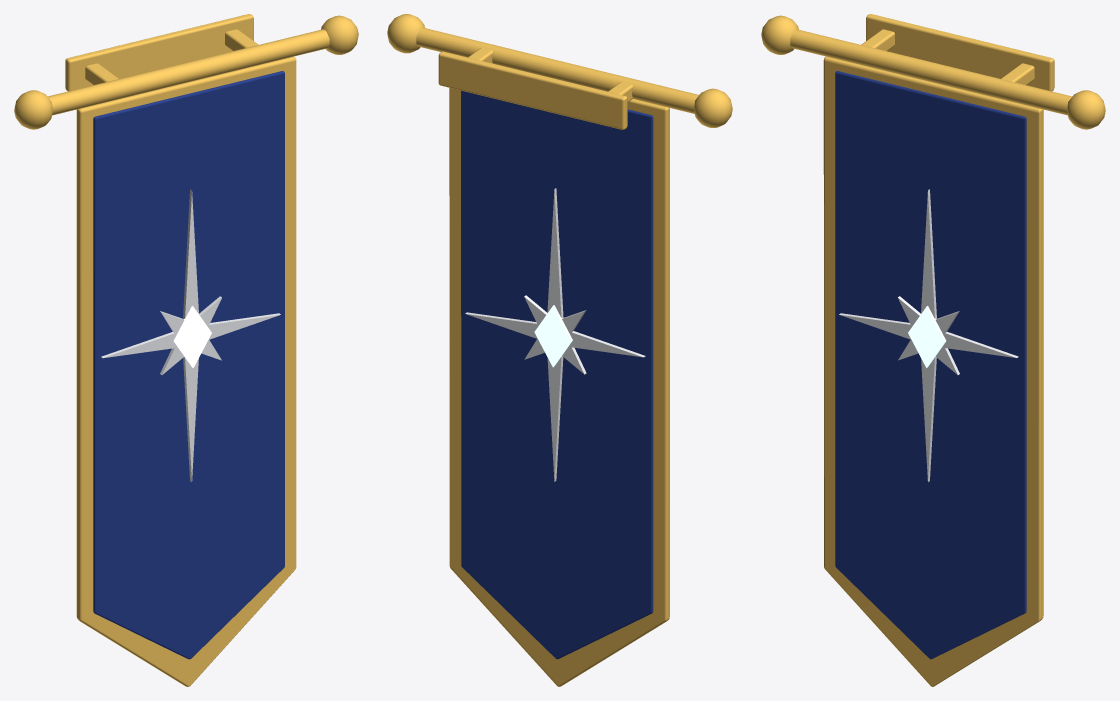
The model's file is Lobby_PROP_StarBanner.fbx.
The picture shows the model from 3 angles, left to right: view 1: azimuth 30°, elevation 25°; view 2: azimuth 150°, elevation 25°; view 3: azimuth 330°, elevation 25°; orthographic projection.
Parts seen in each view (by area): view 1: Lobby_PROP_StarBanner__NavyCloth, Lobby_PROP_StarBanner__Gold, Lobby_PROP_StarBanner__WhiteEmblem, Lobby_PROP_StarBanner__NeonCyanSoft; view 2: Lobby_PROP_StarBanner__NavyCloth, Lobby_PROP_StarBanner__Gold, Lobby_PROP_StarBanner__WhiteEmblem, Lobby_PROP_StarBanner__NeonCyanSoft; view 3: Lobby_PROP_StarBanner__NavyCloth, Lobby_PROP_StarBanner__Gold, Lobby_PROP_StarBanner__WhiteEmblem, Lobby_PROP_StarBanner__NeonCyanSoft.
Boxes of the visible parts, box(x1,y1,x2,y2) form: Lobby_PROP_StarBanner__NavyCloth: box(93, 71, 284, 659); Lobby_PROP_StarBanner__Gold: box(14, 14, 358, 686); Lobby_PROP_StarBanner__WhiteEmblem: box(101, 189, 280, 481); Lobby_PROP_StarBanner__NeonCyanSoft: box(173, 306, 211, 367); Lobby_PROP_StarBanner__NavyCloth: box(461, 90, 653, 659); Lobby_PROP_StarBanner__Gold: box(387, 14, 732, 686); Lobby_PROP_StarBanner__WhiteEmblem: box(465, 188, 645, 481); Lobby_PROP_StarBanner__NeonCyanSoft: box(534, 305, 572, 367); Lobby_PROP_StarBanner__NavyCloth: box(835, 71, 1026, 659); Lobby_PROP_StarBanner__Gold: box(761, 14, 1105, 686); Lobby_PROP_StarBanner__WhiteEmblem: box(839, 189, 1018, 481); Lobby_PROP_StarBanner__NeonCyanSoft: box(908, 306, 946, 367).
Bounding box in the file's own units: 4.38 × 7.78 × 0.87.
